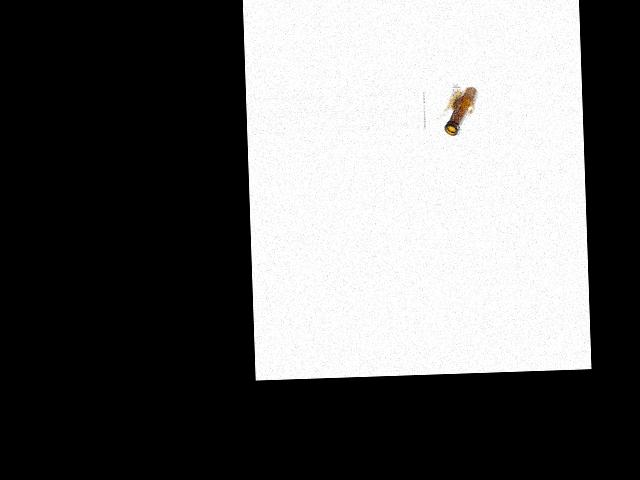beer: (442, 86, 479, 135)
